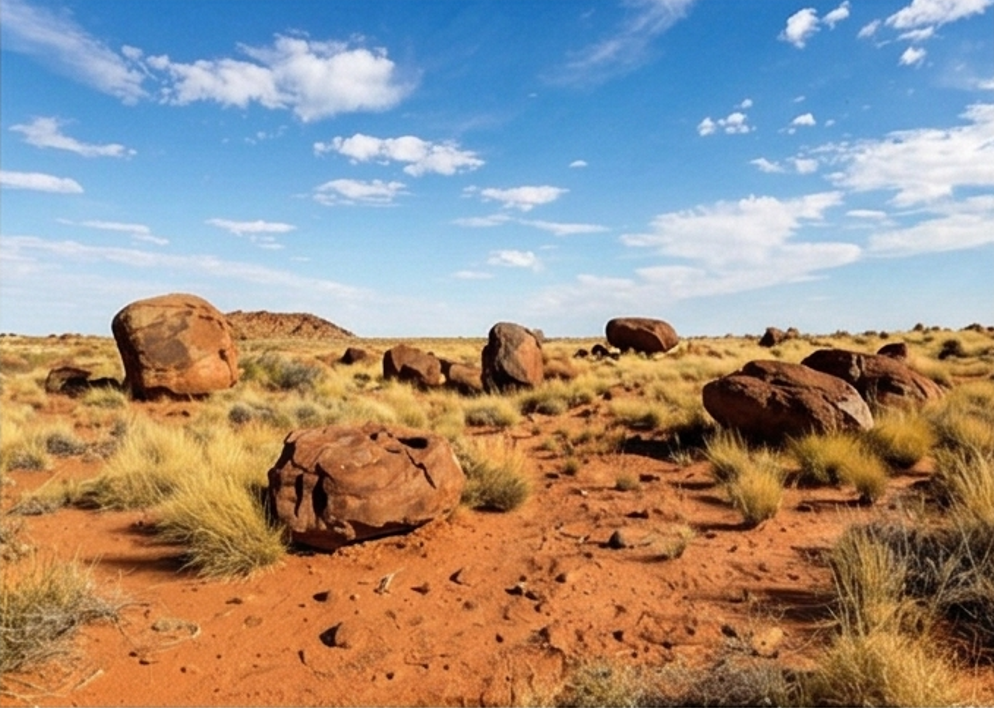rocks: (268, 423, 465, 548), (703, 348, 942, 440), (112, 294, 237, 397), (481, 322, 544, 391), (607, 317, 677, 352)
